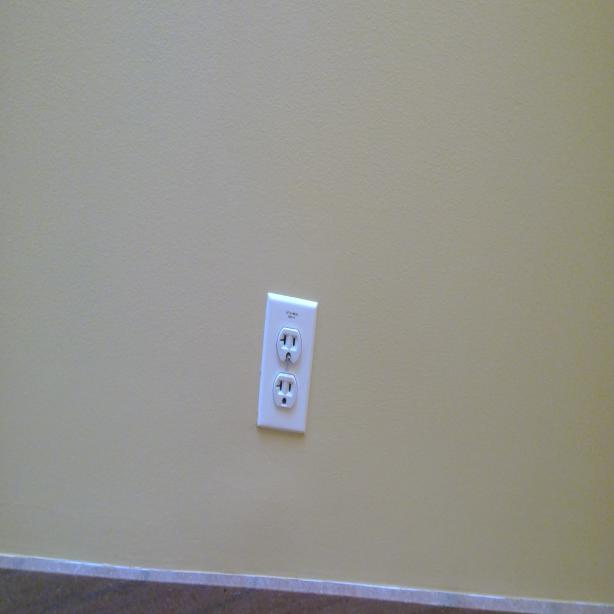typeb: (277, 327, 302, 365), (274, 373, 298, 410)
